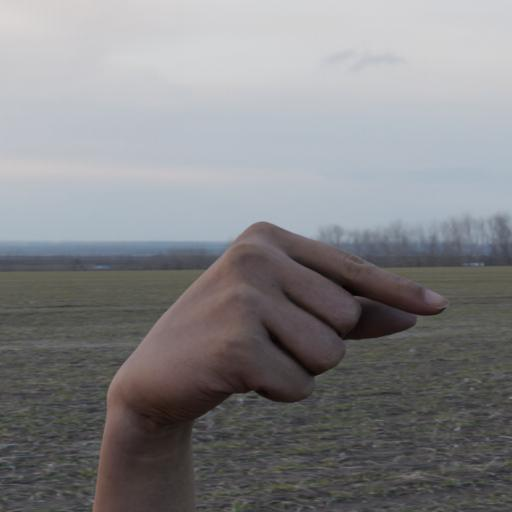G: (100, 215, 456, 438)
